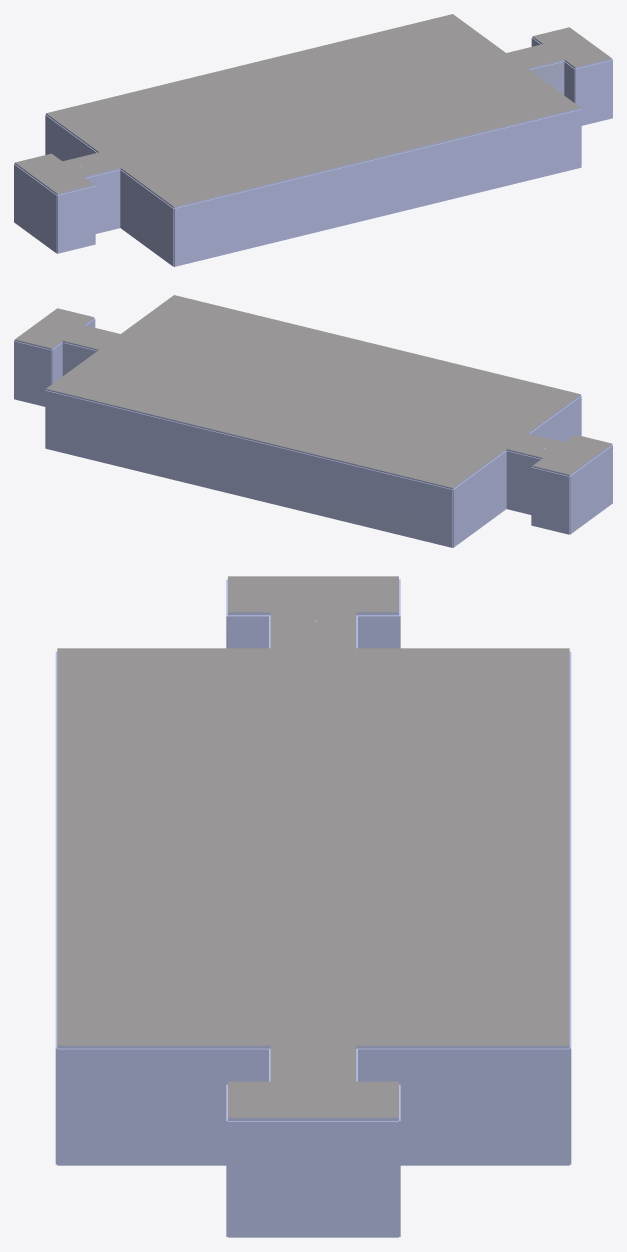
Rendered from Oficina_prefab.fbx.
The picture shows the model from 3 angles, top to bottom: view 1: azimuth 30°, elevation 25°; view 2: azimuth 150°, elevation 25°; view 3: azimuth 270°, elevation 25°; orthographic projection. The views are drawn at different scales.
Parts seen in each view (by area): view 1: Suelo.007, Pared3, Pared2, Pared2.001, Pared1.004, Pared1, Suelo.009, Suelo.005, Pared1.003, Suelo.006, Suelo.008, Pared1.007 (+1 smaller); view 2: Suelo.007, Pared1.001, Pared2, Pared2.001, Pared1.006, Pared1.005, Suelo.009, Suelo.005, Pared1.002, Suelo.006, Suelo.008, Pared1.008 (+1 smaller); view 3: Suelo.007, Pared2.005, Pared2.002, Pared2.006, Suelo.005, Suelo.009, Suelo.006, Suelo.008, Pared1.001, Pared3, Pared2.004, Pared2.009.
Part boxes in pixels (x1,y1,x2,y2): Suelo.007: (46,14,580,208); Pared3: (174,109,581,266); Pared2: (45,115,173,266); Pared2.001: (14,164,57,253); Pared1.004: (57,186,95,253); Pared1: (575,60,612,125); Suelo.009: (14,153,94,195); Suelo.005: (532,27,612,68); Pared1.003: (85,169,120,233); Suelo.006: (506,44,564,69); Suelo.008: (63,152,120,177); Pared1.007: (529,61,564,94); Suelo.007: (46,295,580,489); Pared1.001: (45,390,452,547); Pared2: (453,396,581,547); Pared2.001: (569,445,612,534); Pared1.006: (531,467,569,534); Pared1.005: (14,341,51,406); Suelo.009: (532,434,612,476); Suelo.005: (14,308,94,349); Pared1.002: (506,450,541,514); Suelo.006: (62,325,120,350); Suelo.008: (506,433,563,458); Pared1.008: (62,342,97,375); Suelo.007: (57,648,569,1048); Pared2.005: (356,1048,569,1165); Pared2.002: (57,1048,268,1165); Pared2.006: (228,1121,398,1237); Suelo.005: (228,1081,398,1120); Suelo.009: (228,576,398,615); Suelo.006: (270,1045,356,1081); Suelo.008: (270,612,356,648); Pared1.001: (569,651,571,1164); Pared3: (55,651,57,1164); Pared2.004: (228,615,270,648); Pared2.009: (356,615,398,648).
Size of the model in its own units: 15040 by 1543 by 6040.
Materials: 31 (31 with a texture image).
